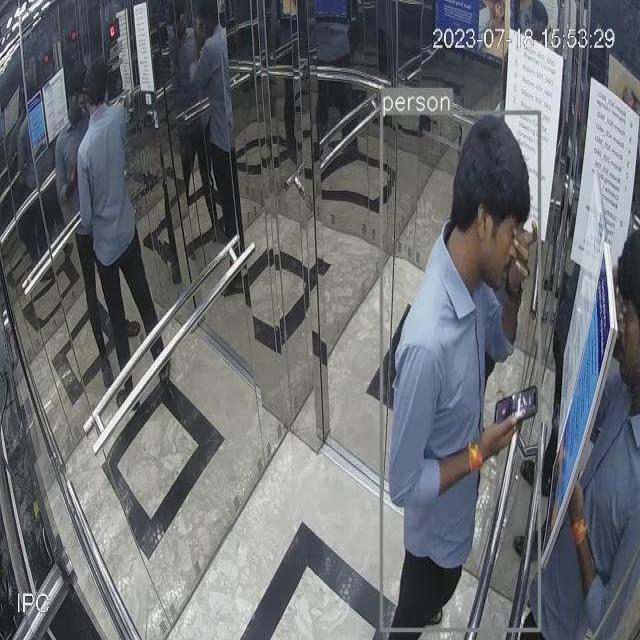person: (383, 112, 541, 631), (77, 60, 171, 420), (188, 4, 257, 305)
